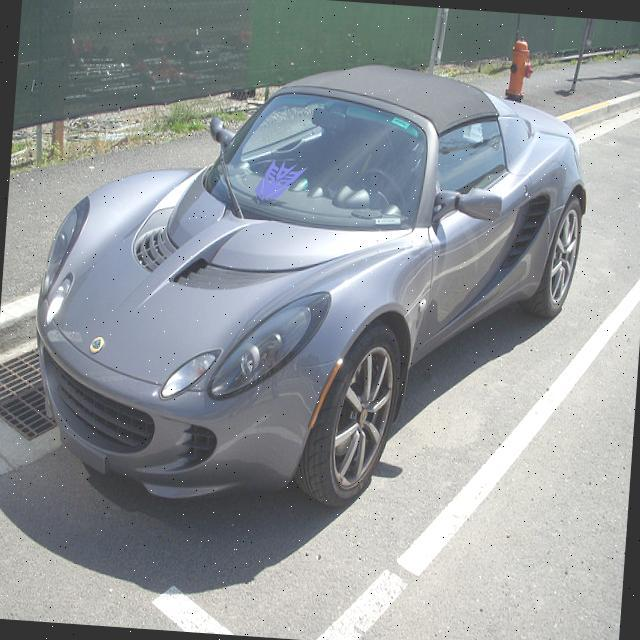fire_hydrant: (502, 31, 534, 102)
